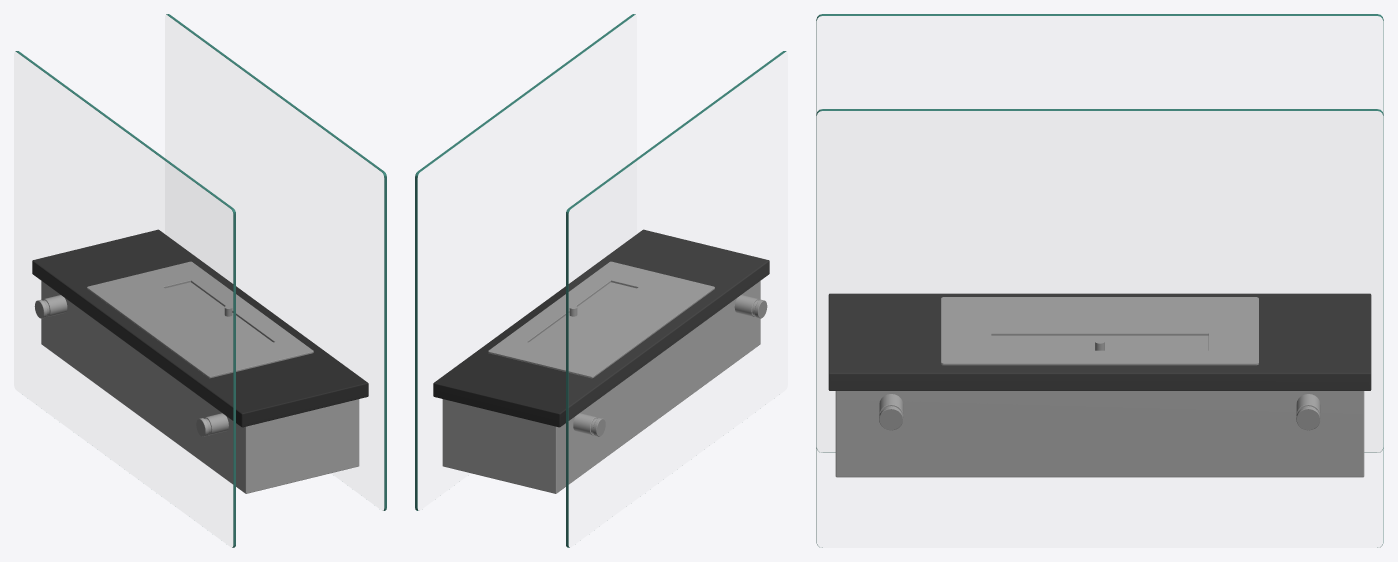
The model's file is bio-20-204.gltf.
3 views of the same model, side by side, from view 1: azimuth 30°, elevation 25°; view 2: azimuth 150°, elevation 25°; view 3: azimuth 270°, elevation 25° (orthographic). The views are drawn at different scales.
Parts seen in each view (by area): view 1: mesh_0, mesh_1, mesh_2, mesh_10, mesh_7, mesh_6, mesh_5; view 2: mesh_0, mesh_1, mesh_2, mesh_7, mesh_10, mesh_5, mesh_6; view 3: mesh_0, mesh_1, mesh_2, mesh_7, mesh_10, mesh_3, mesh_4.
Part boxes in pixels (box(x1,y1,x2,y2)): mesh_0: box(41, 281, 359, 493); mesh_1: box(32, 229, 368, 427); mesh_2: box(87, 261, 313, 378); mesh_10: box(15, 51, 235, 547); mesh_7: box(166, 14, 386, 510); mesh_6: box(196, 413, 228, 436); mesh_5: box(34, 295, 67, 318); mesh_0: box(442, 281, 760, 493); mesh_1: box(433, 229, 769, 427); mesh_2: box(488, 261, 714, 378); mesh_7: box(415, 14, 635, 510); mesh_10: box(566, 51, 786, 547); mesh_5: box(573, 413, 605, 436); mesh_6: box(734, 295, 767, 318); mesh_0: box(835, 391, 1364, 477); mesh_1: box(828, 293, 1371, 390); mesh_2: box(941, 297, 1258, 365); mesh_7: box(816, 109, 1383, 547); mesh_10: box(816, 14, 1383, 452); mesh_3: box(879, 394, 903, 430); mesh_4: box(1296, 394, 1320, 430).
Bounding box in the file's own units: 0.1988 × 0.4 × 0.47.
